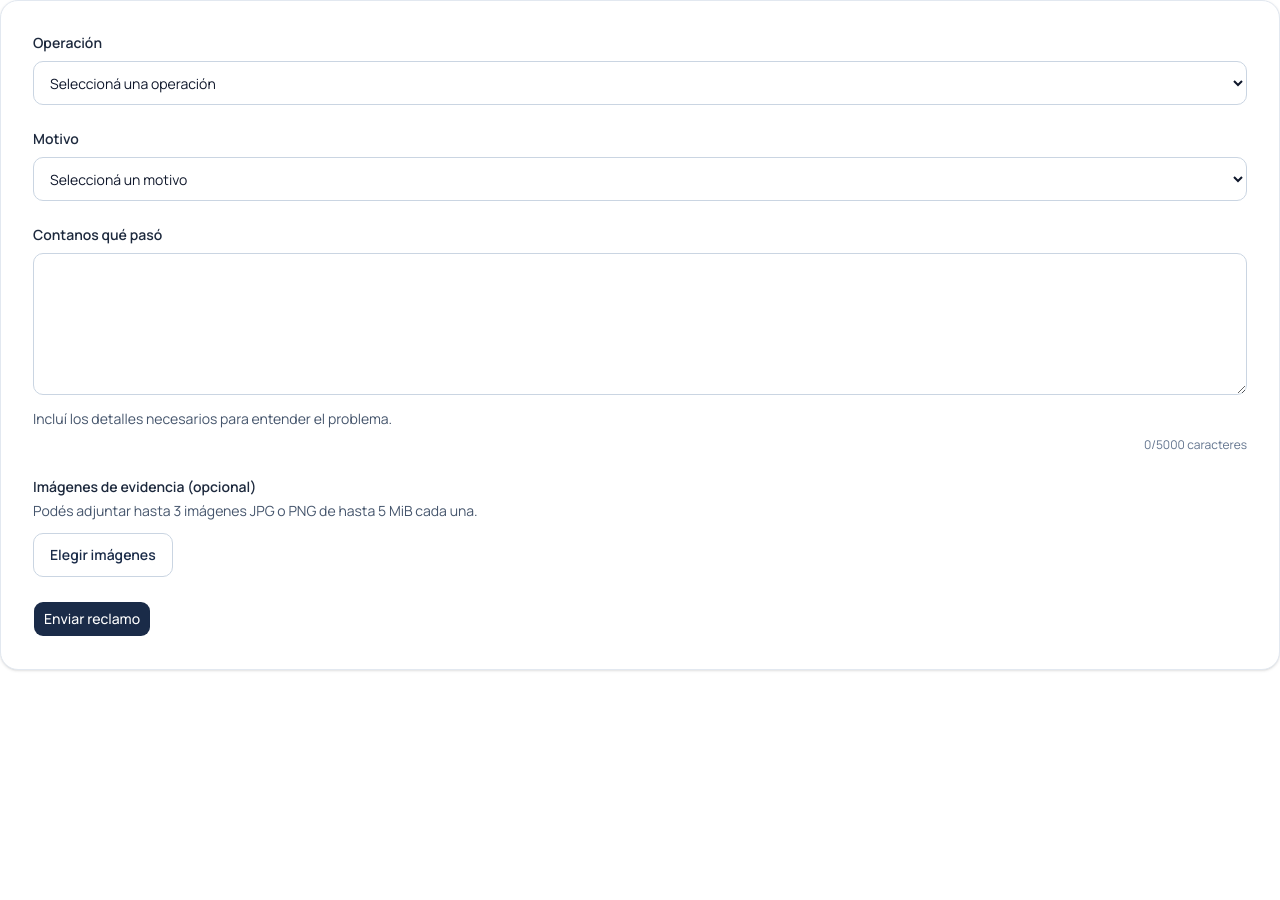
Test: ParticipantClaimForm › shows an unfinished-claim conflict and preserves the entered submission
Step 1. Select "Solicitud: Reparación de cañería · Reparar una pérdida en la cocina. · Solicitan" in the dropdown with test id "claim-reference" → (640, 83), box [33,61,1247,105]
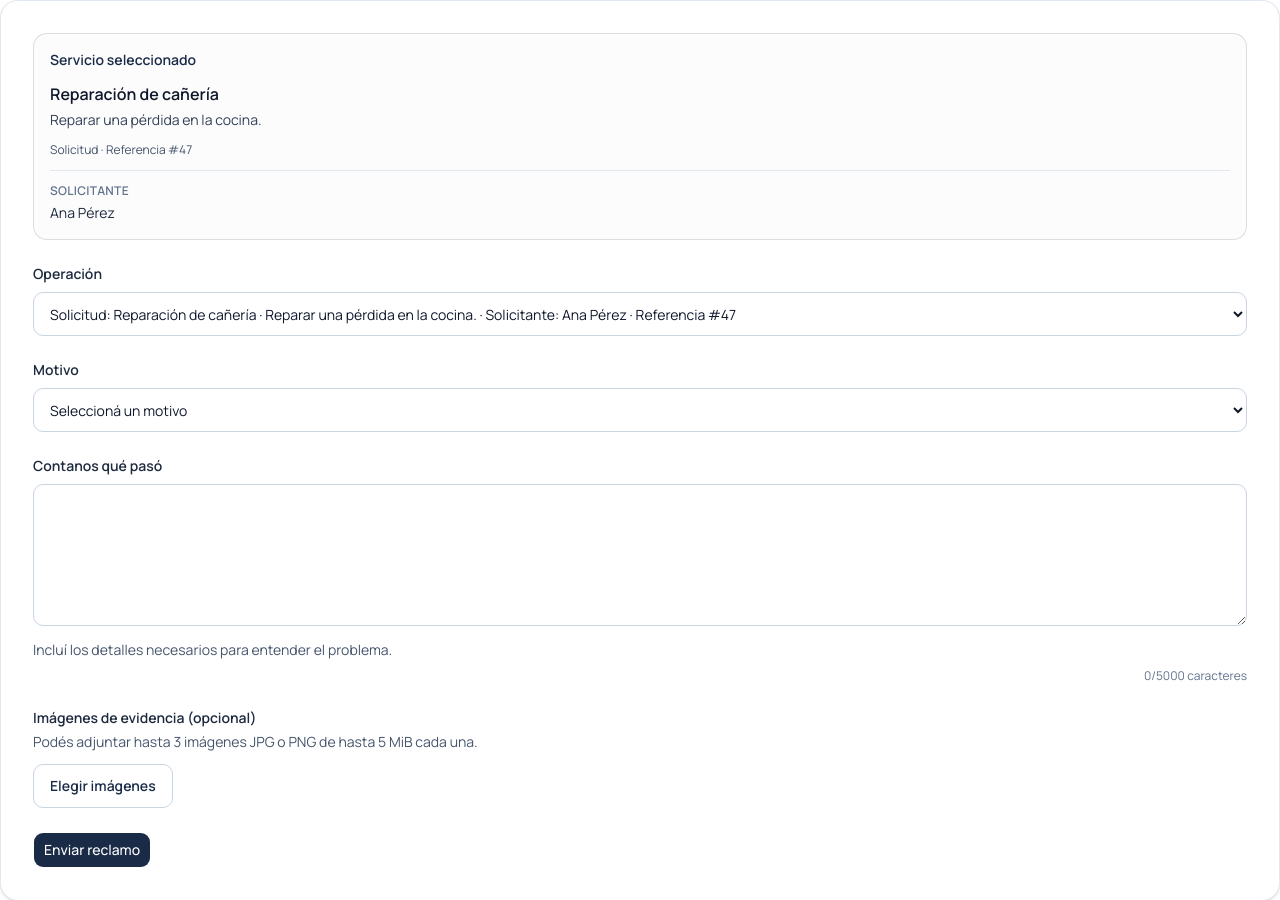
Step 2. Select "Daño" in the dropdown with test id "claim-reason" → (640, 410), box [33,388,1247,432]
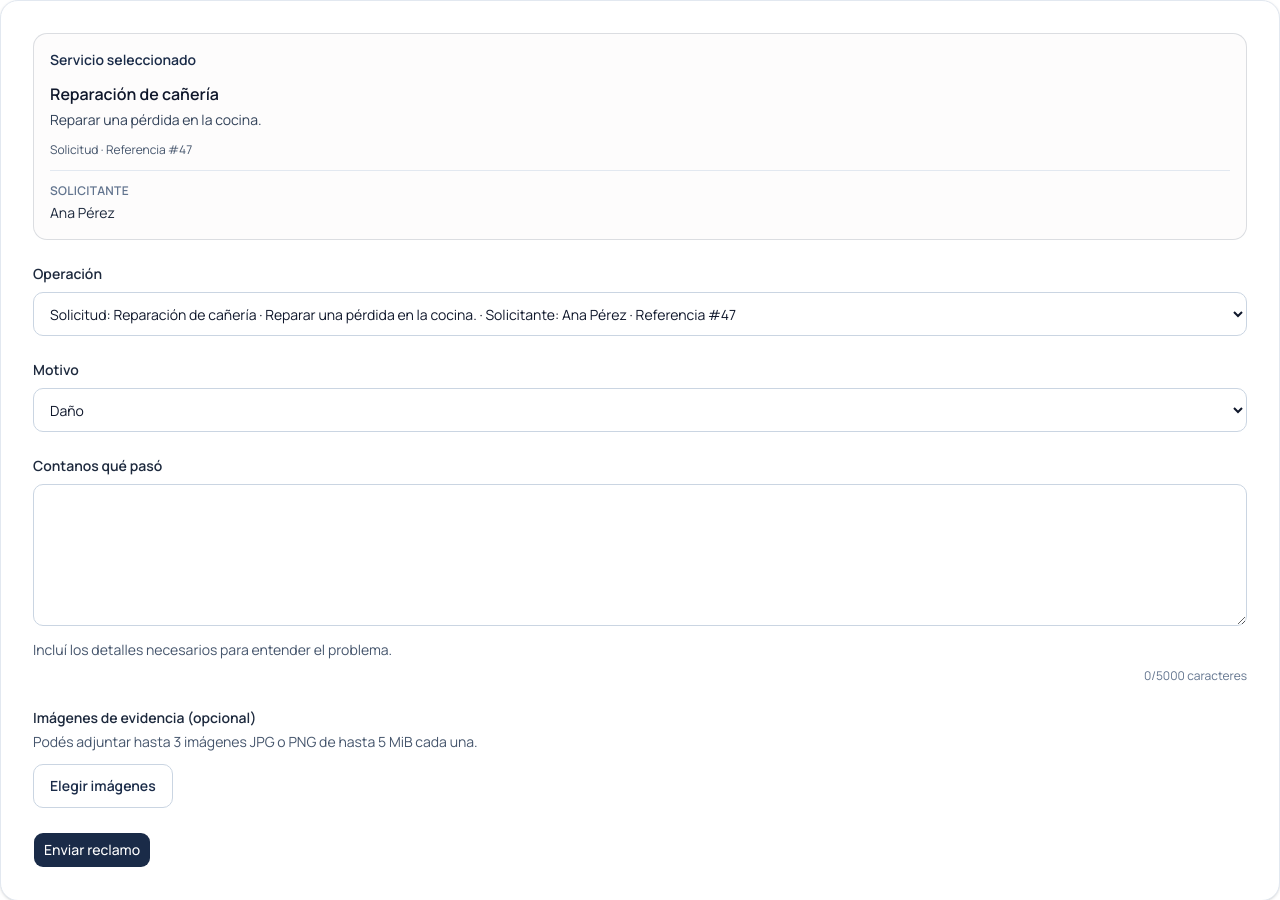
Step 3. Type "El trabajo causó daños." into the text box with test id "claim-description" → (640, 555), box [33,484,1247,626]
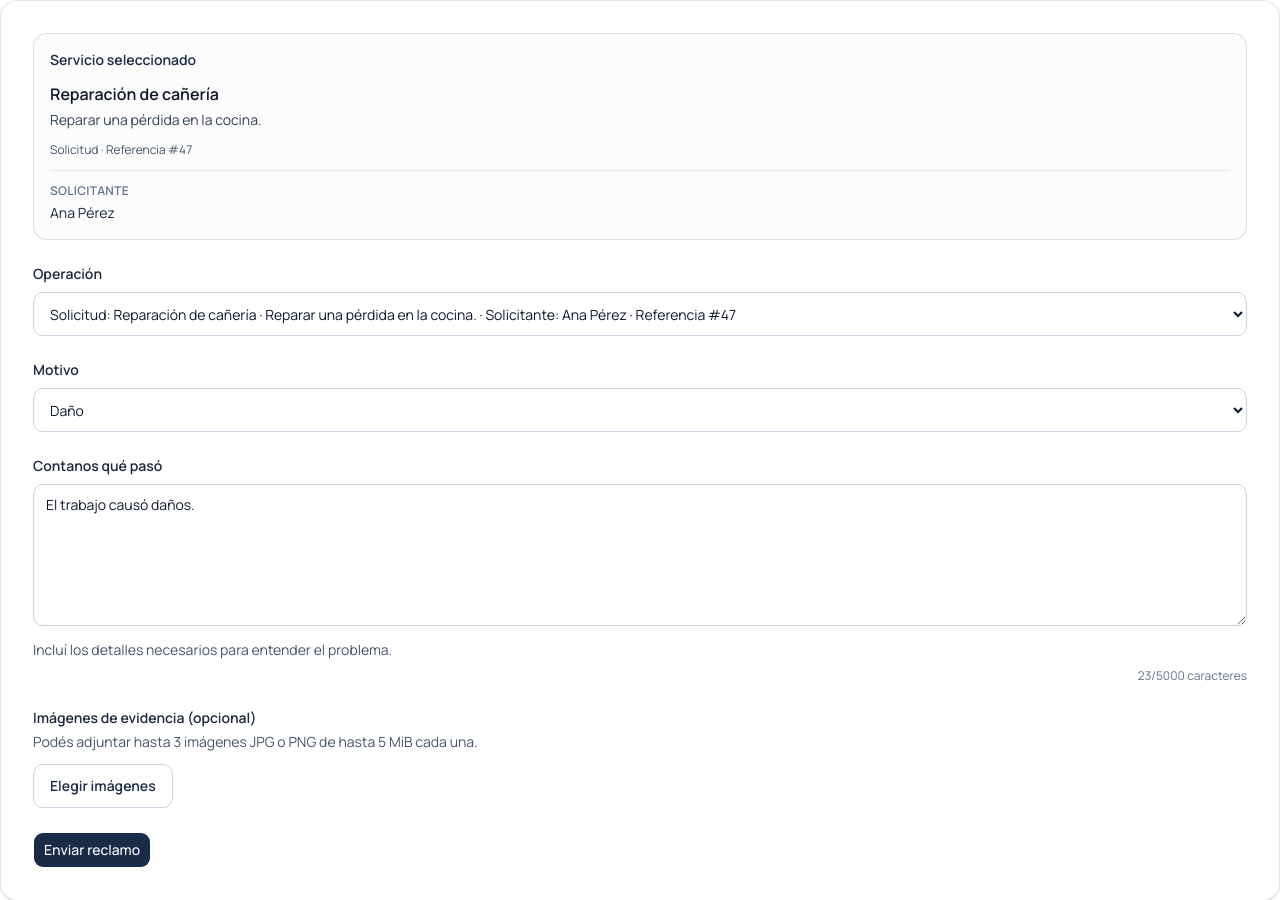
Step 4. Click the button with test id "claim-submit" → click(92, 850), box [33,832,151,868]
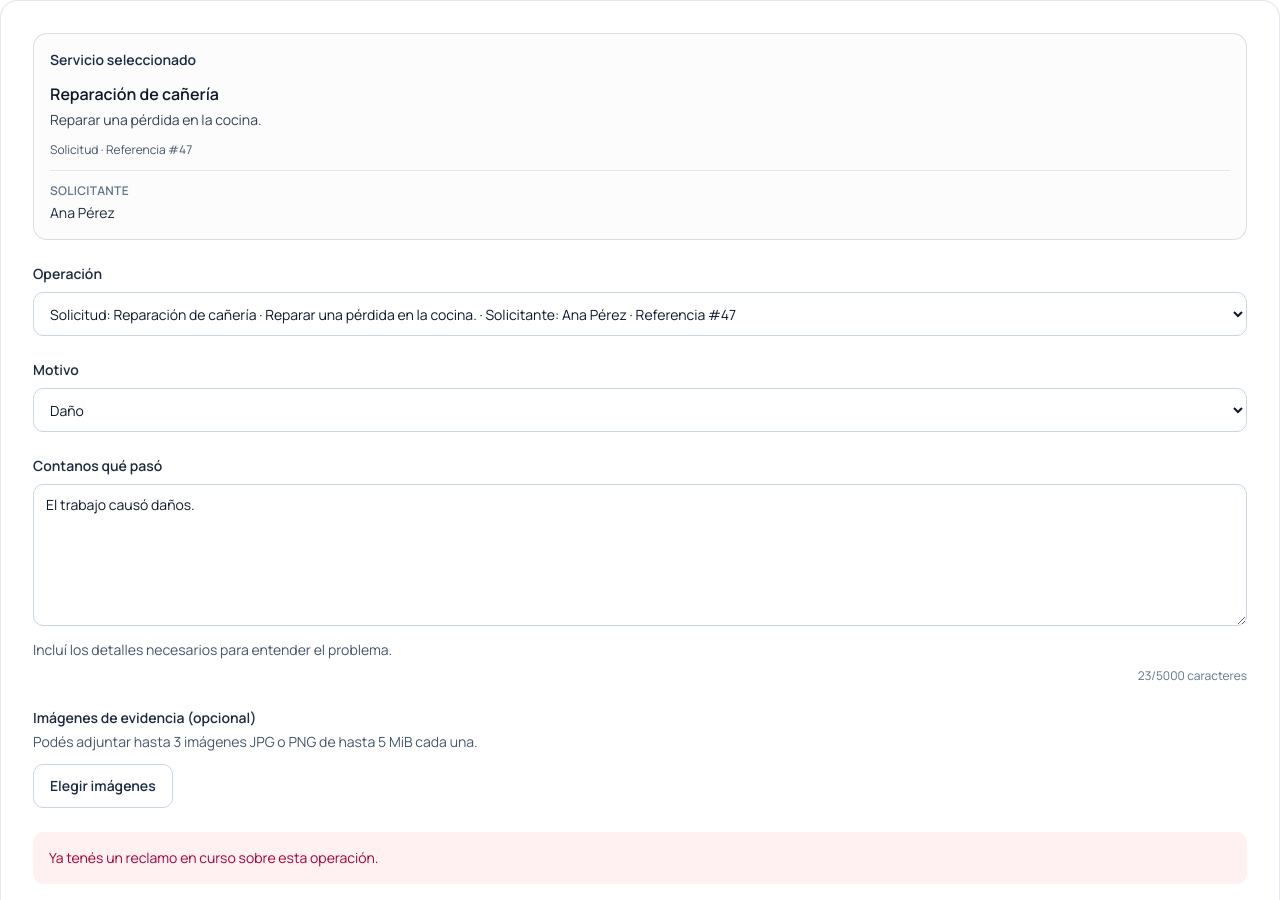
Now the message reads "Ya tenés un reclamo en curso sobre esta operación.", box [49,848,378,867]
